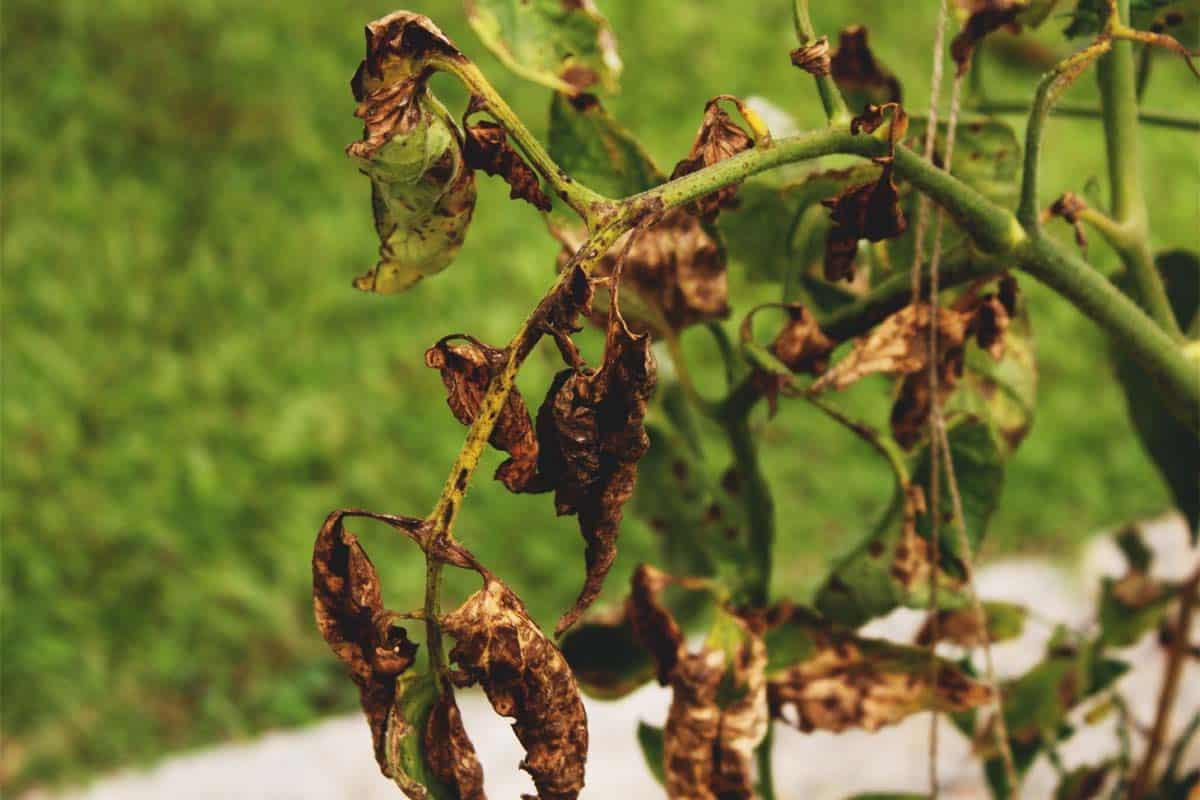Verticillium wilt: (536, 308, 655, 634), (347, 11, 475, 293), (441, 573, 587, 799), (631, 566, 767, 799), (314, 511, 417, 775), (814, 447, 931, 627), (622, 207, 728, 333), (813, 304, 931, 391), (822, 159, 907, 279), (464, 121, 551, 210), (425, 335, 507, 425), (670, 97, 754, 179), (546, 265, 592, 331)
